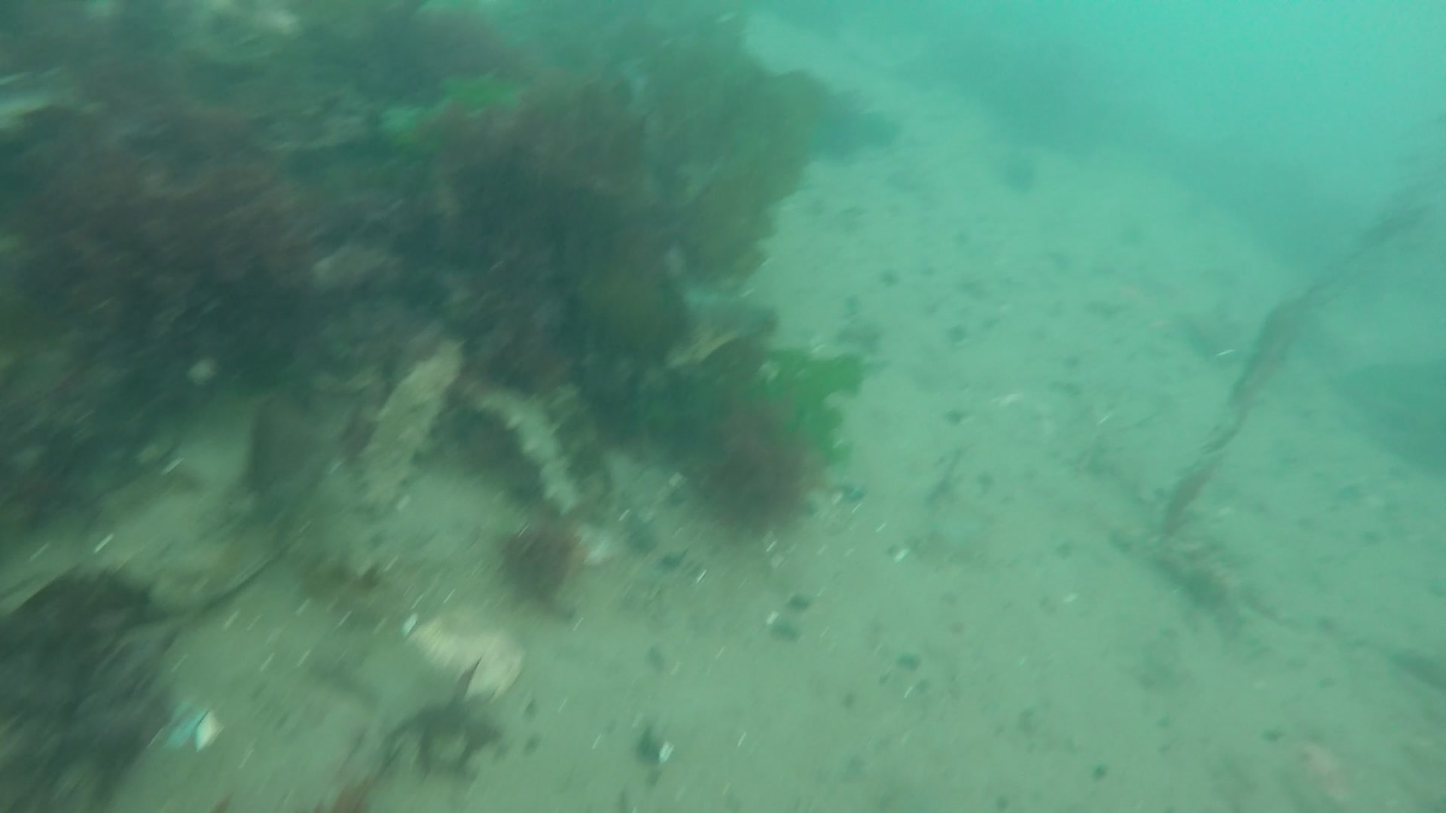echinus: (464, 370, 581, 523), (354, 345, 457, 513)
